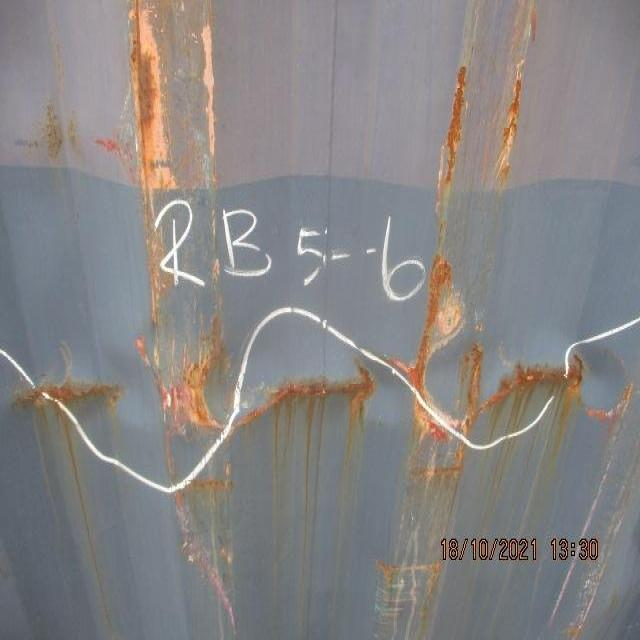dent: (9, 182, 635, 545)
